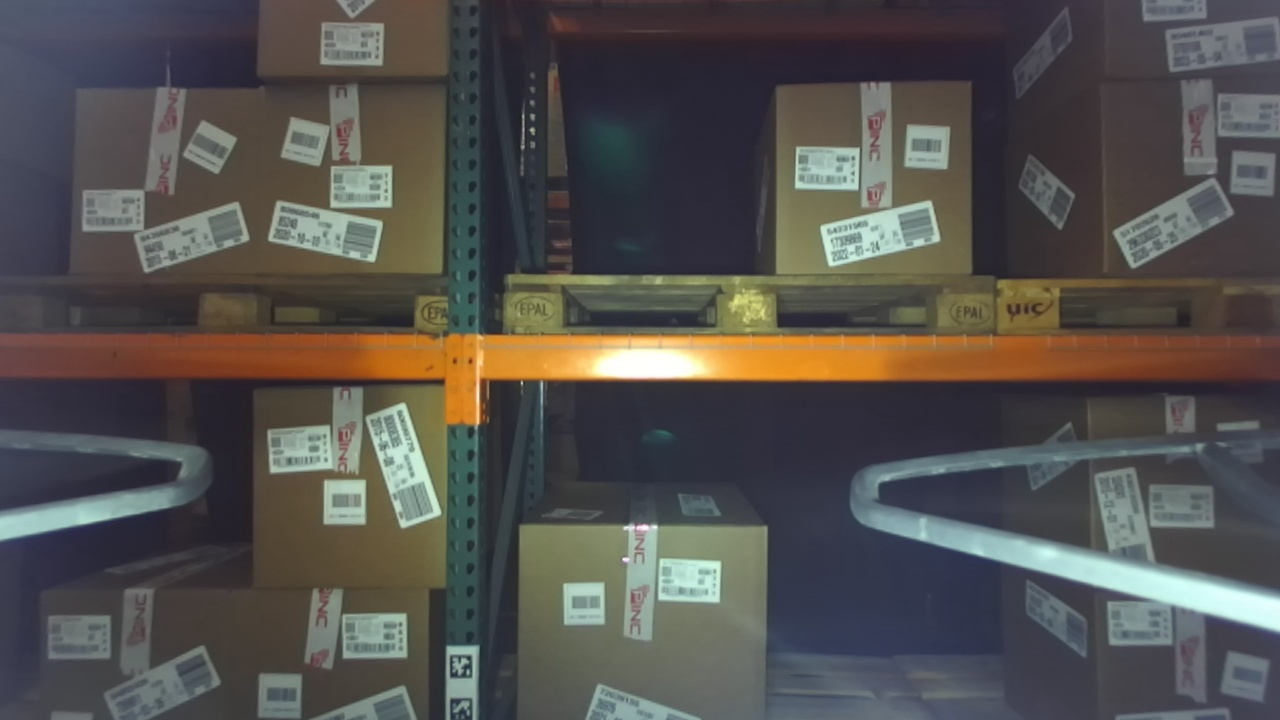box: (500, 511, 783, 720), (235, 64, 457, 298), (52, 68, 266, 300), (231, 381, 457, 595), (753, 62, 966, 289), (1064, 376, 1280, 594), (1087, 61, 1276, 299), (27, 566, 242, 720), (222, 565, 429, 720)
